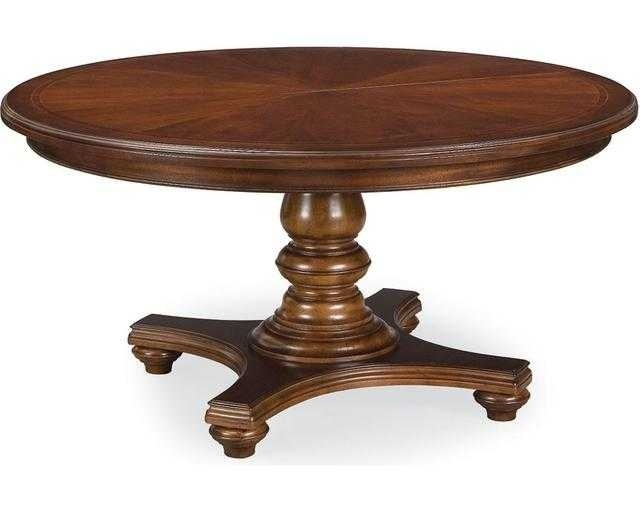obstacle: (1, 47, 637, 457)
